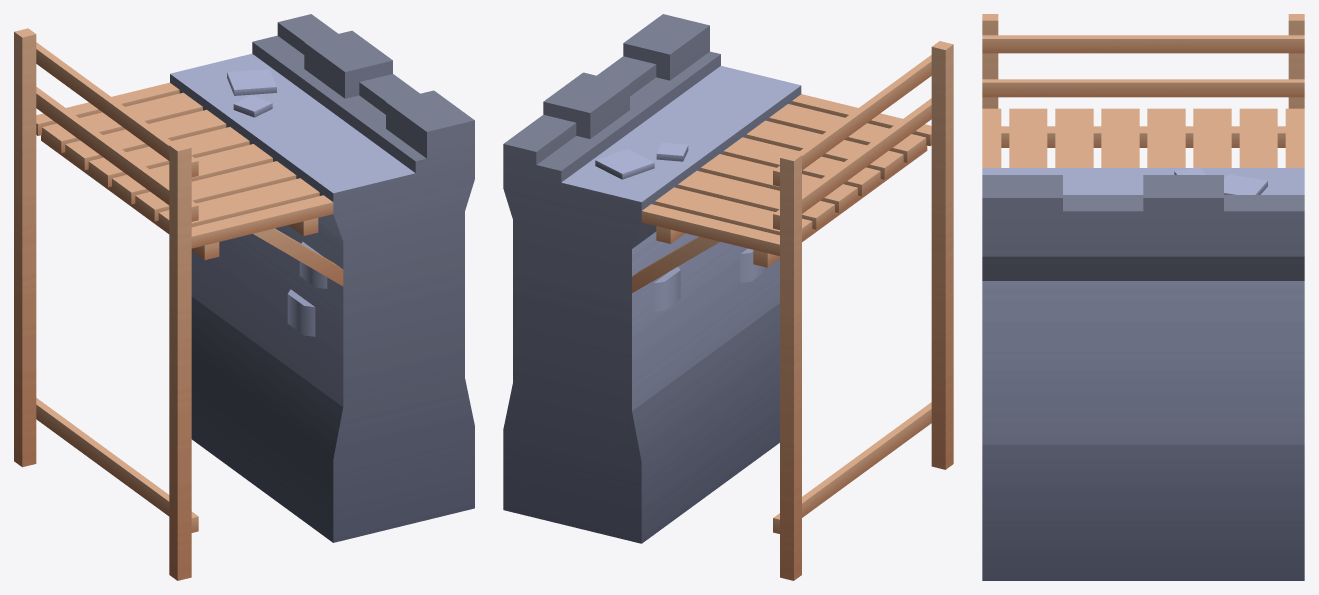
File: wall-narrow-wood-fence.fbx
3 views of the same model, side by side, from view 1: azimuth 30°, elevation 25°; view 2: azimuth 150°, elevation 25°; view 3: azimuth 270°, elevation 25° (orthographic). The views are drawn at different scales.
Parts seen in each view (by area): view 1: wall-narrow-wood-fence; view 2: wall-narrow-wood-fence; view 3: wall-narrow-wood-fence.
Boxes of the visible parts, bbox=[...] form: wall-narrow-wood-fence: bbox=[14, 14, 474, 580]; wall-narrow-wood-fence: bbox=[503, 14, 953, 580]; wall-narrow-wood-fence: bbox=[982, 14, 1304, 580].
Bounding box in the file's own units: 1.05 × 1 × 1.45.
